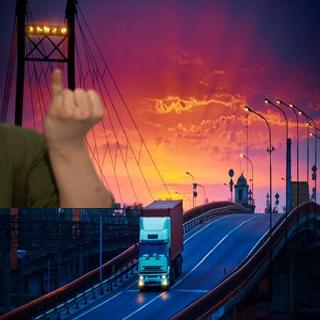FINE: (39, 65, 106, 153)
